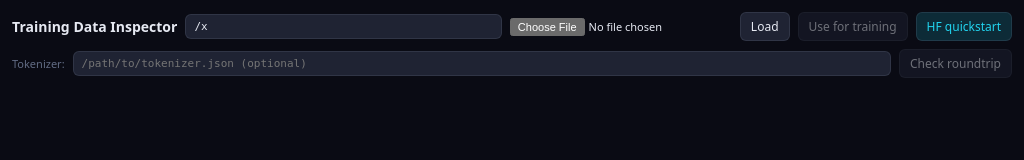
it: DataInspector › renders error envelope when backend fails
What coordinates should you click on to do the following:
click the button with test id "data-load"
I would click on:
 (765, 26)
Its box is [740,12,790,41].
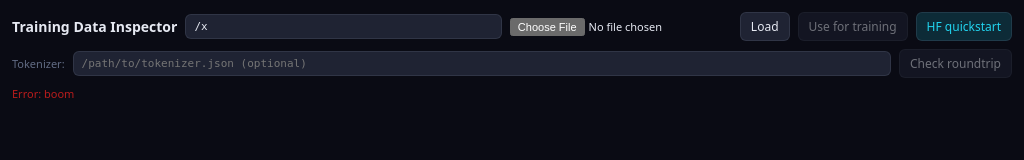
Result: the text "Error: boom" is shown at [12,86,74,101]
